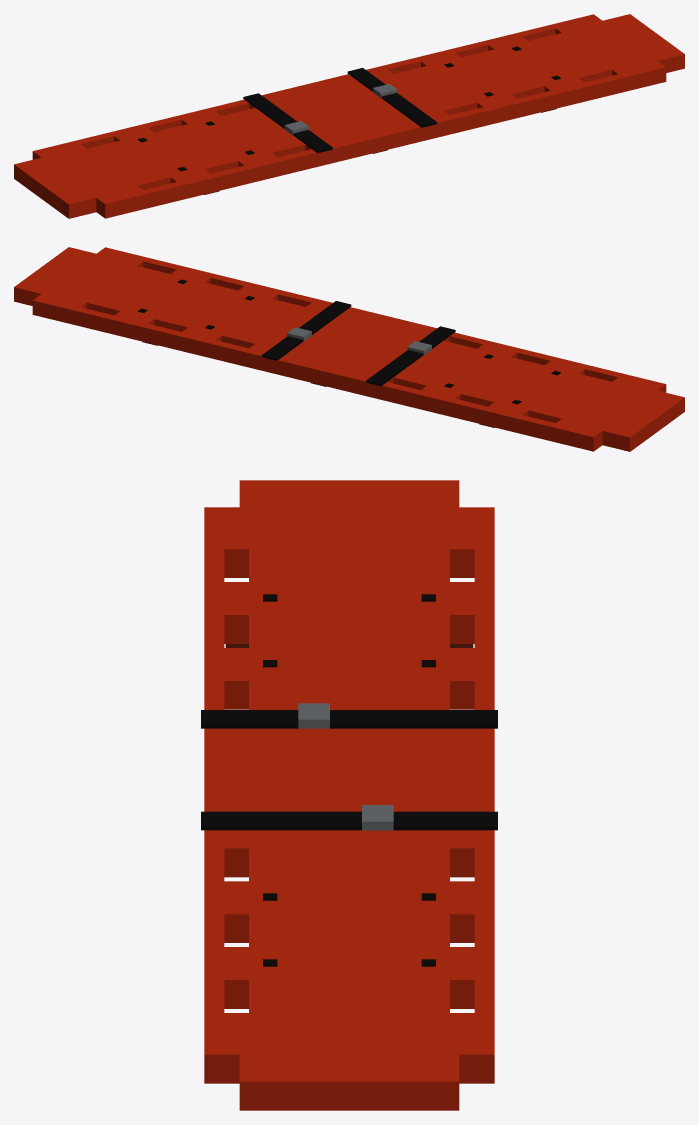
Rendered from SpinalBackboard.obj.
3 views of the same model, one above another, from view 1: azimuth 30°, elevation 25°; view 2: azimuth 150°, elevation 25°; view 3: azimuth 270°, elevation 25° (orthographic). The views are drawn at different scales.
Parts seen in each view (by area): view 1: SpinalBackboard; view 2: SpinalBackboard; view 3: SpinalBackboard.
Boxes of the visible parts, x1=… form: SpinalBackboard: x1=14, y1=14, x2=684, y2=218; SpinalBackboard: x1=14, y1=247, x2=684, y2=451; SpinalBackboard: x1=201, y1=480, x2=497, y2=1110.
Size of the model in its own units: 2.01 by 0.078 by 0.42.
